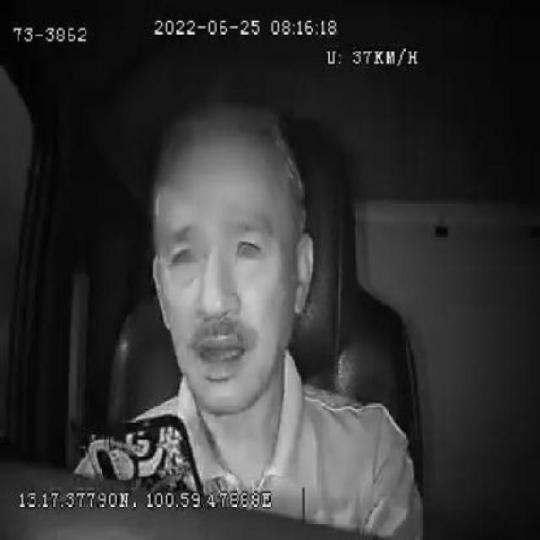phone: (89, 415, 200, 492)
